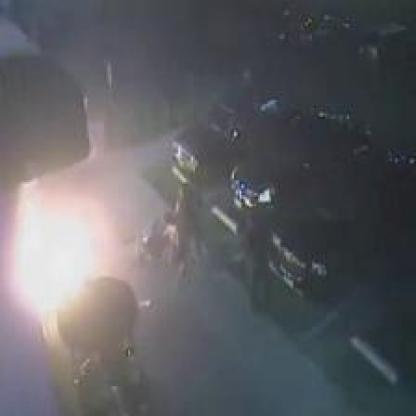fire: (7, 188, 112, 318)
